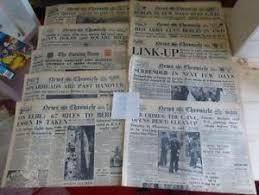Printing industry: (6, 5, 259, 195)
